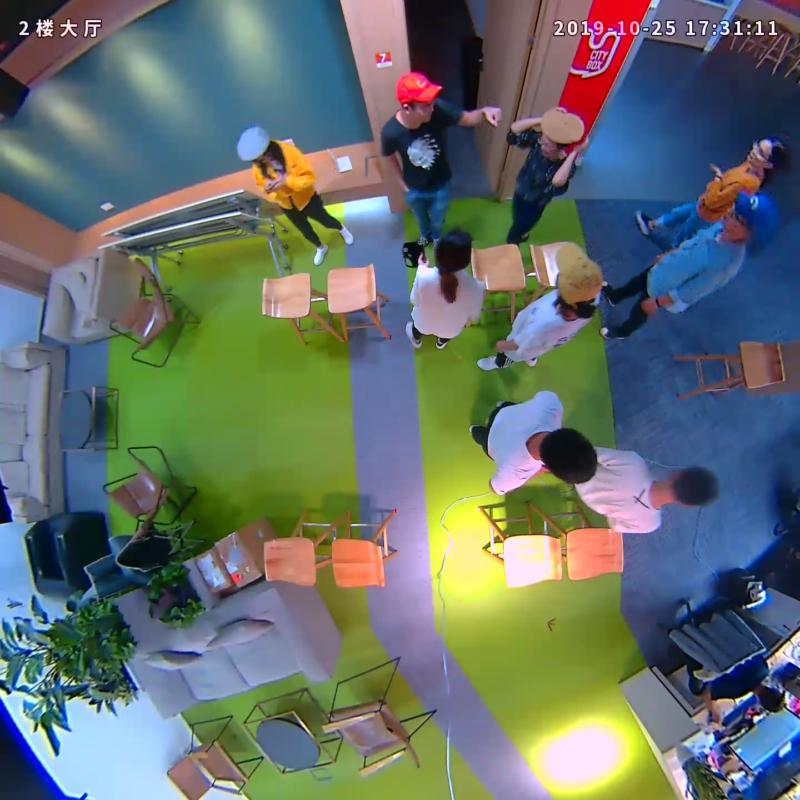head: (552, 241, 604, 307), (539, 427, 597, 484), (720, 190, 776, 238), (664, 465, 719, 509), (394, 72, 441, 123), (539, 105, 585, 157), (435, 227, 472, 272), (237, 125, 275, 165), (746, 136, 784, 170)
